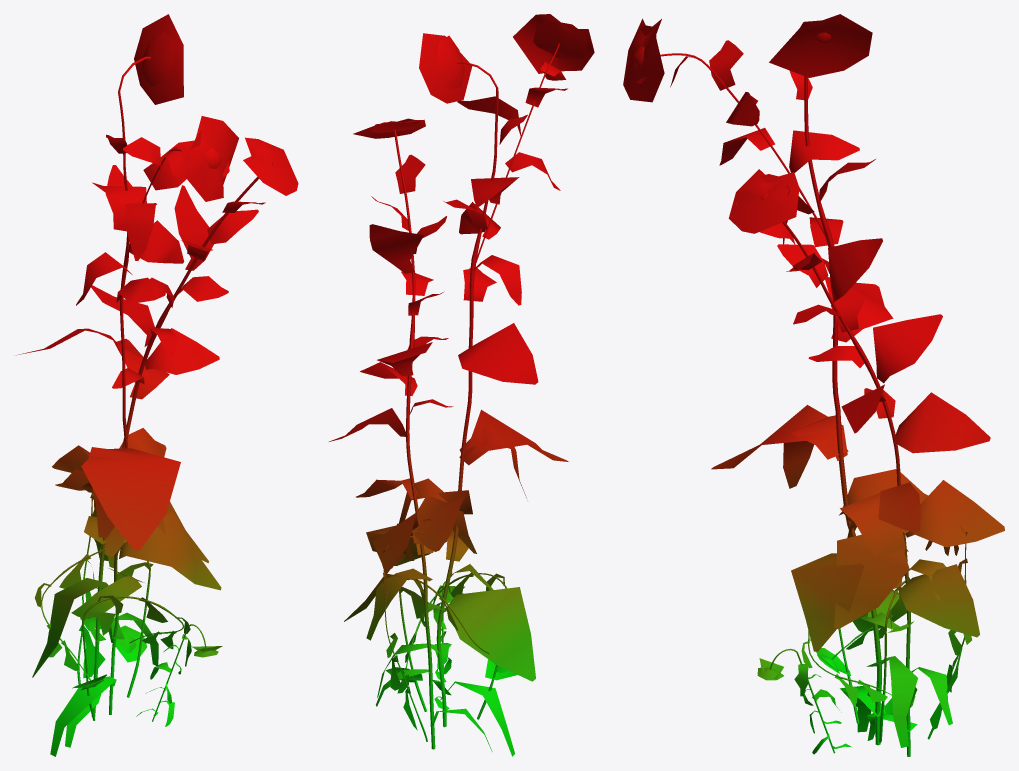
File: Crownbeard_LOD1_Var4_tefoajkr.fbx
The picture shows the model from 3 angles, left to right: view 1: azimuth 30°, elevation 25°; view 2: azimuth 150°, elevation 25°; view 3: azimuth 270°, elevation 25°; orthographic projection. The views are drawn at different scales.
Parts seen in each view (by area): view 1: _0d2f_Var4_LOD1; view 2: _0d2f_Var4_LOD1; view 3: _0d2f_Var4_LOD1.
Part boxes in pixels (<box>): _0d2f_Var4_LOD1: <box>16,14,298,756</box>; _0d2f_Var4_LOD1: <box>329,14,594,756</box>; _0d2f_Var4_LOD1: <box>623,14,1004,756</box>.
Bounding box in the file's own units: 23.67 × 70.57 × 31.59.
